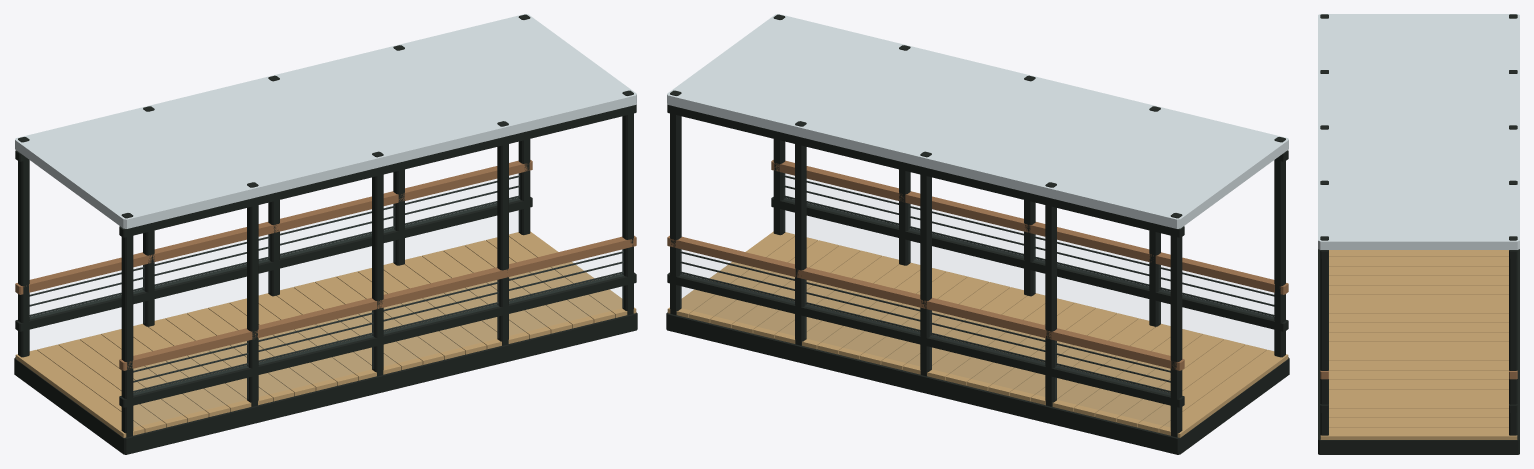
Rendered from gh_bridge_v01.glb.
The picture shows the model from 3 angles, left to right: view 1: azimuth 30°, elevation 25°; view 2: azimuth 150°, elevation 25°; view 3: azimuth 270°, elevation 25°; orthographic projection. The views are drawn at different scales.
Visible parts, largest first — view 1: roof, rails, deck; view 2: roof, rails, deck; view 3: roof, deck, rails.
Boxes of the visible parts, left/top/right/bottom form: roof: left=15, top=14, right=636, bottom=228; rails: left=15, top=14, right=636, bottom=437; deck: left=14, top=231, right=637, bottom=454; roof: left=667, top=14, right=1288, bottom=228; rails: left=667, top=14, right=1288, bottom=437; deck: left=666, top=231, right=1289, bottom=454; roof: left=1318, top=14, right=1519, bottom=249; deck: left=1318, top=249, right=1519, bottom=454; rails: left=1320, top=14, right=1517, bottom=438.
Bounding box in the file's own units: 8 × 3.51 × 3.
Materials: 2 (1 with a texture image).
